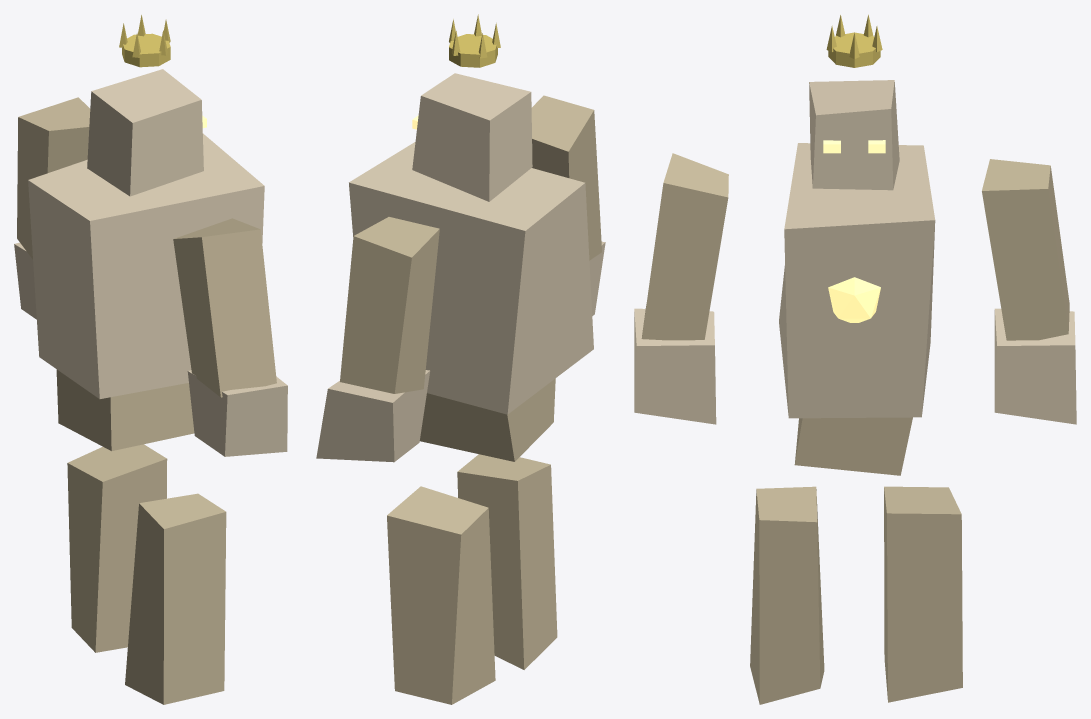
The model's file is colossus.glb.
The picture shows the model from 3 angles, left to right: view 1: azimuth 30°, elevation 25°; view 2: azimuth 150°, elevation 25°; view 3: azimuth 270°, elevation 25°; orthographic projection. The views are drawn at different scales.
Parts seen in each view (by area): view 1: body, legR, legL, upper.001, skull, pelvis, fist.001, upper, band, fist; view 2: body, legL, upper, legR, skull, fist, pelvis, upper.001, band, fist.001; view 3: body, legL, legR, upper, upper.001, skull, fist, fist.001, pelvis, core, band.
Part boxes in pixels (x1,y1,x2,y2): body: (28,133,264,398); legR: (125,493,226,704); legL: (67,444,167,652); upper.001: (173,218,276,397); skull: (87,69,203,196); pelvis: (56,369,194,451); fist.001: (187,370,287,456); upper: (17,97,90,259); band: (122,33,170,67); fist: (14,242,36,319); body: (349,142,593,414); legL: (387,486,495,704); upper: (340,217,439,393); legR: (457,454,557,669); skull: (412,73,532,201); fist: (316,370,430,462); pelvis: (419,378,555,461); upper.001: (531,95,601,260); band: (449,34,497,67); fist.001: (589,241,605,315); body: (779,143,935,418); legL: (884,486,962,702); legR: (750,486,824,704); upper: (982,159,1069,340); upper.001: (641,153,728,340); skull: (809,80,899,190); fist: (994,308,1076,424); fist.001: (634,308,716,424); pelvis: (794,417,912,475); core: (828,277,880,322); band: (828,32,880,67).
Bounding box in the file's own units: 1.25 × 4.2 × 2.53.
